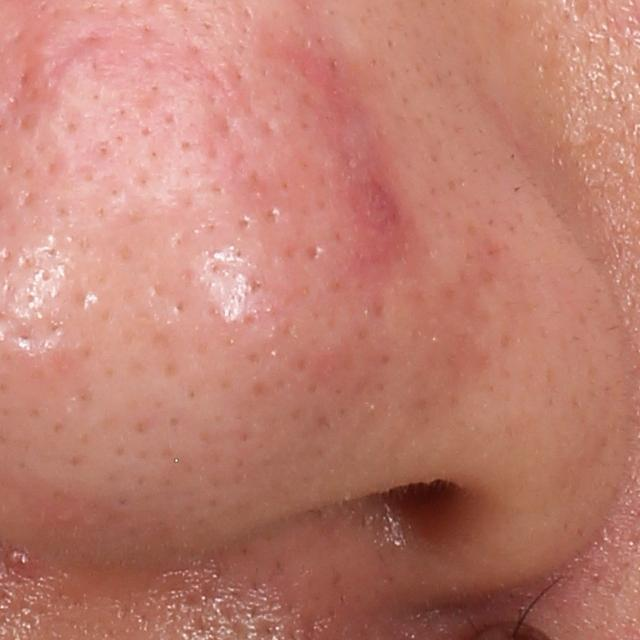papule: (330, 160, 410, 266)
